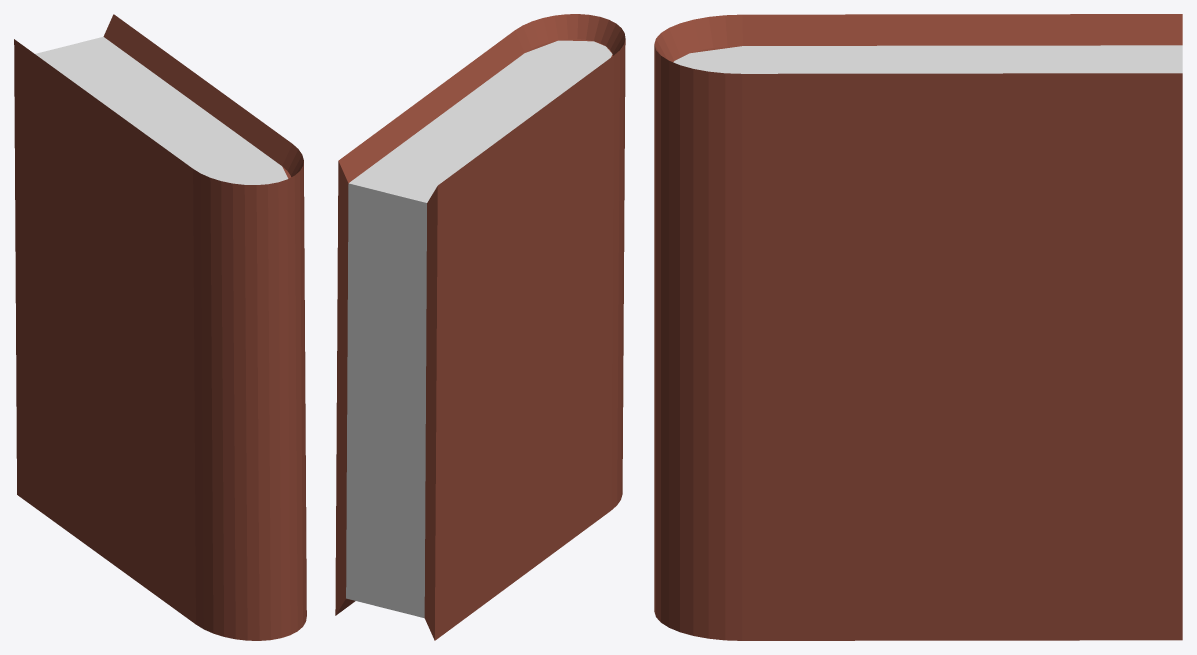
The model's file is book_3.glb.
3 views of the same model, side by side, from view 1: azimuth 30°, elevation 25°; view 2: azimuth 150°, elevation 25°; view 3: azimuth 270°, elevation 25° (orthographic). The views are drawn at different scales.
Visible parts, largest first — view 1: book_4.004; view 2: book_4.004; view 3: book_4.004.
Boxes of the visible parts, bbox=[...] form: book_4.004: bbox=[14, 14, 306, 640]; book_4.004: bbox=[335, 14, 625, 640]; book_4.004: bbox=[654, 14, 1182, 640].
Bounding box in the file's own units: 0.1199 × 0.5058 × 0.4278.
